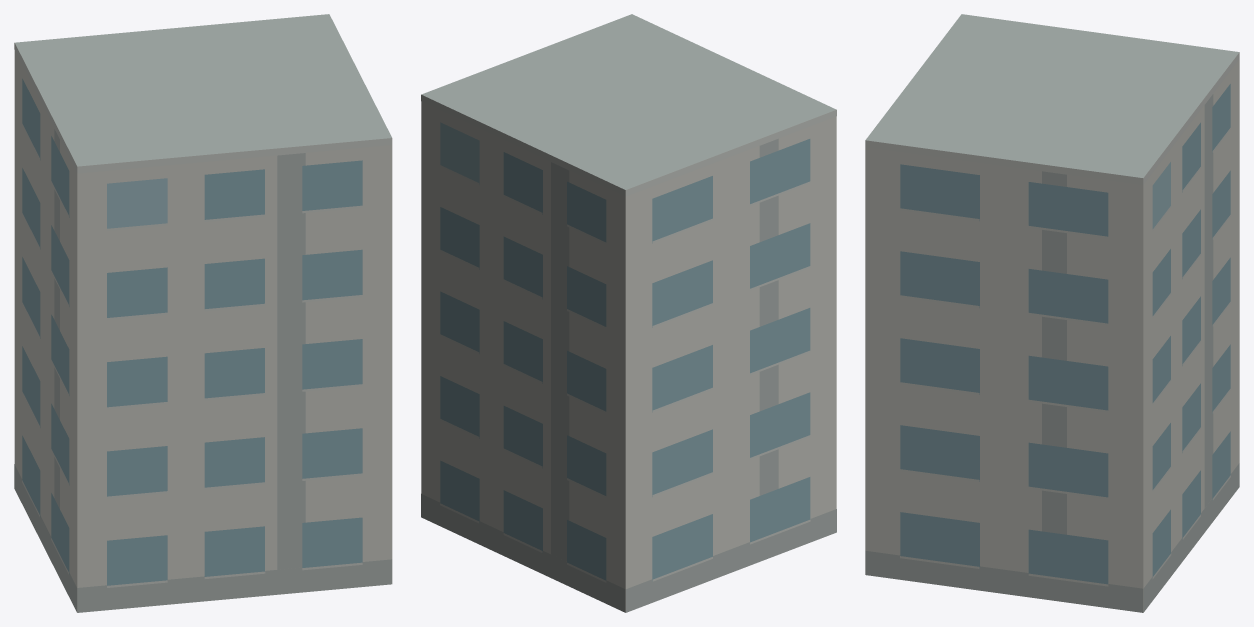
Rendered from residential-a9458e39-512a-4f27-9375-075e52647b81.glb.
3 renders of one model, left to right at view 1: azimuth 30°, elevation 25°; view 2: azimuth 150°, elevation 25°; view 3: azimuth 270°, elevation 25°, orthographic. The views are drawn at different scales.
Parts seen in each view (by area): view 1: residential-a9458e39-512a-4f27-9375-075e52647b81.tmp; view 2: residential-a9458e39-512a-4f27-9375-075e52647b81.tmp; view 3: residential-a9458e39-512a-4f27-9375-075e52647b81.tmp.
Part boxes in pixels (<box>): residential-a9458e39-512a-4f27-9375-075e52647b81.tmp: <box>14,14,392,612</box>; residential-a9458e39-512a-4f27-9375-075e52647b81.tmp: <box>421,14,836,612</box>; residential-a9458e39-512a-4f27-9375-075e52647b81.tmp: <box>865,14,1239,612</box>.
Size of the model in its own units: 12.36 by 15.25 by 11.91.
